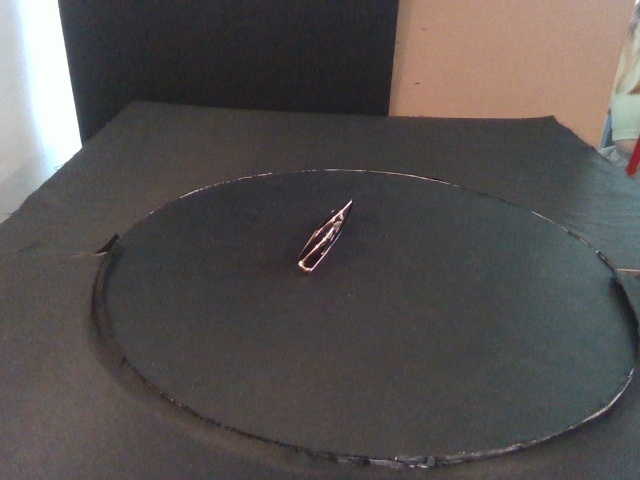glasses: (295, 196, 356, 275)
